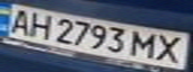2: (51, 15, 75, 46)
3: (106, 25, 130, 55)
7: (69, 19, 93, 48)
9: (87, 21, 109, 52)
A: (3, 6, 36, 35)
H: (21, 10, 57, 39)
M: (127, 29, 160, 60)
X: (151, 33, 190, 65)
